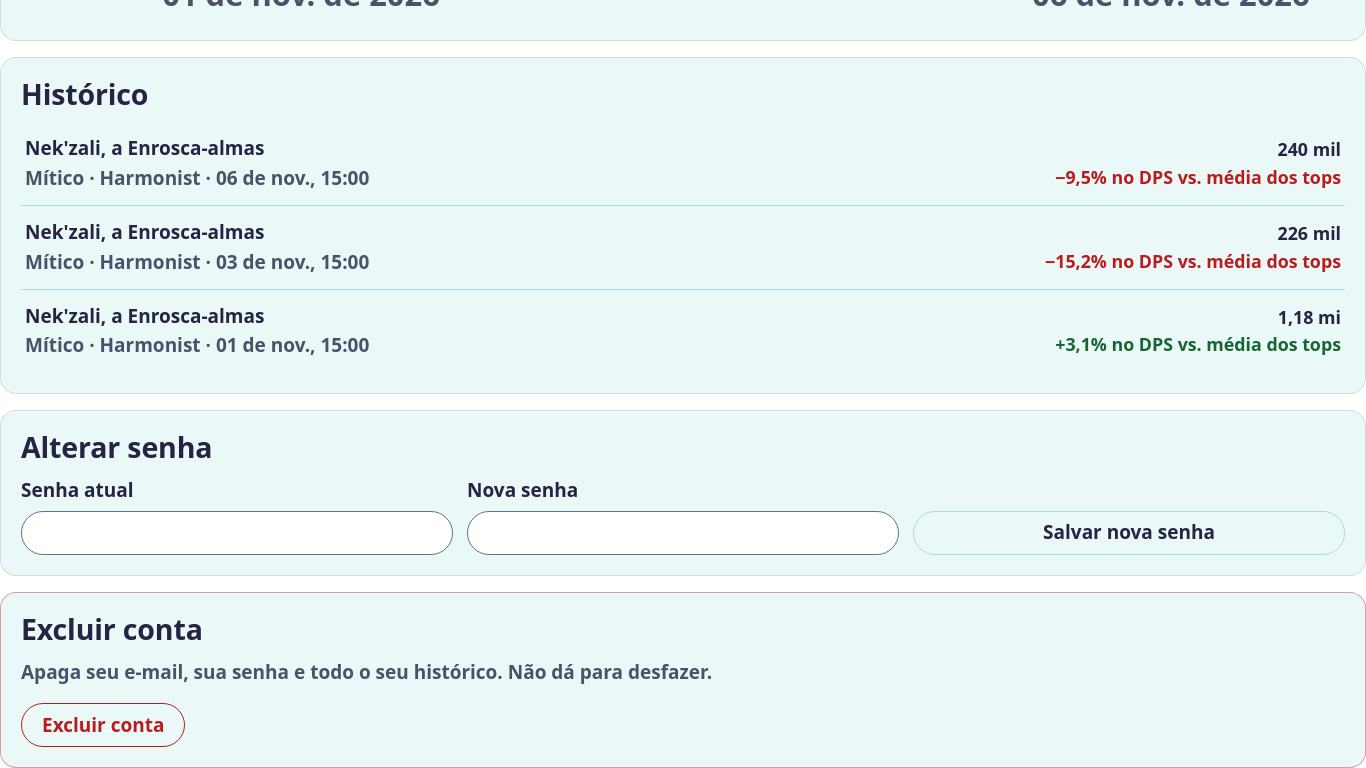
Test: Profile › alterar senha › troca a senha, avisa e limpa os campos
(page scrolled)
Type "senha-antiga" into the password field labelled "Senha atual". click: (237, 533)
box: [21,511,453,555]
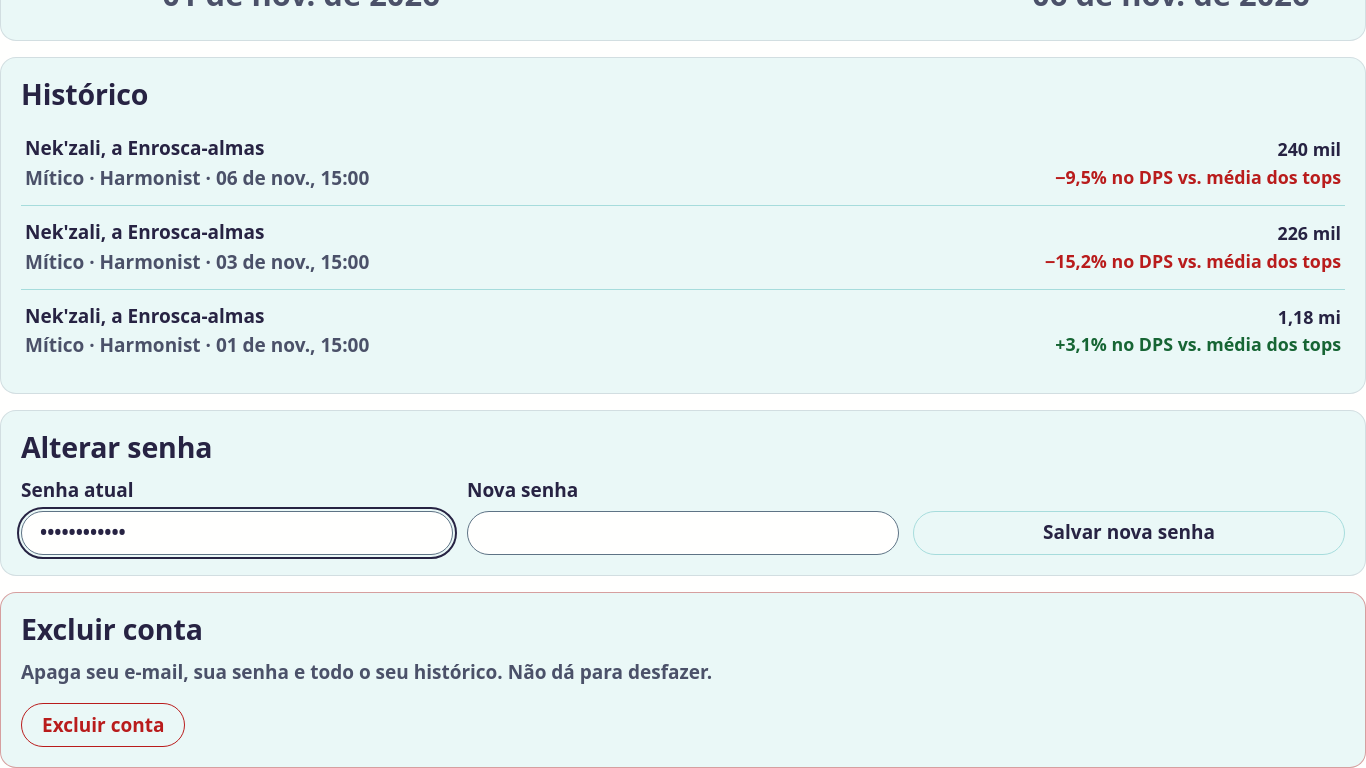
Type "senha-nova-123" into the password field labelled "Nova senha". click: (683, 533)
box: [467,511,899,555]
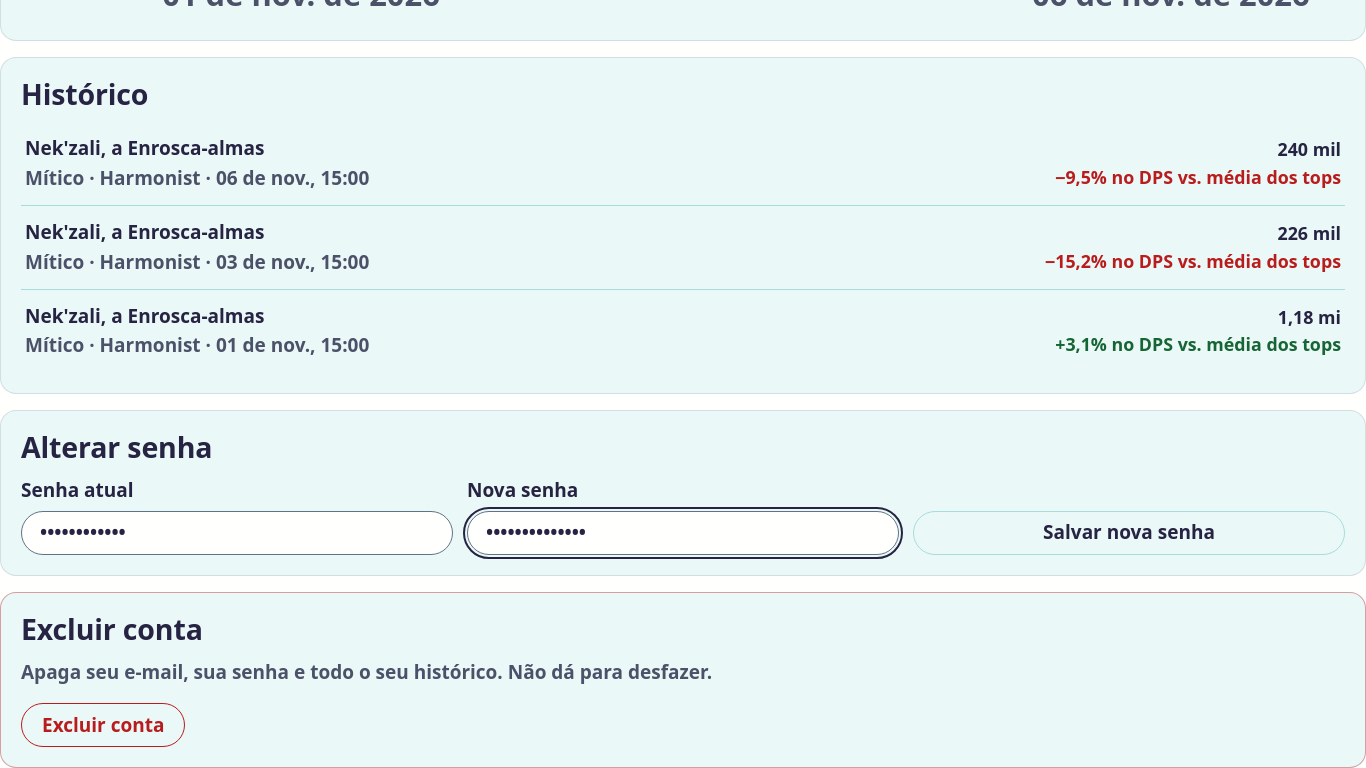
Click the button "Salvar nova senha". click: (1129, 533)
box: [913,511,1345,555]
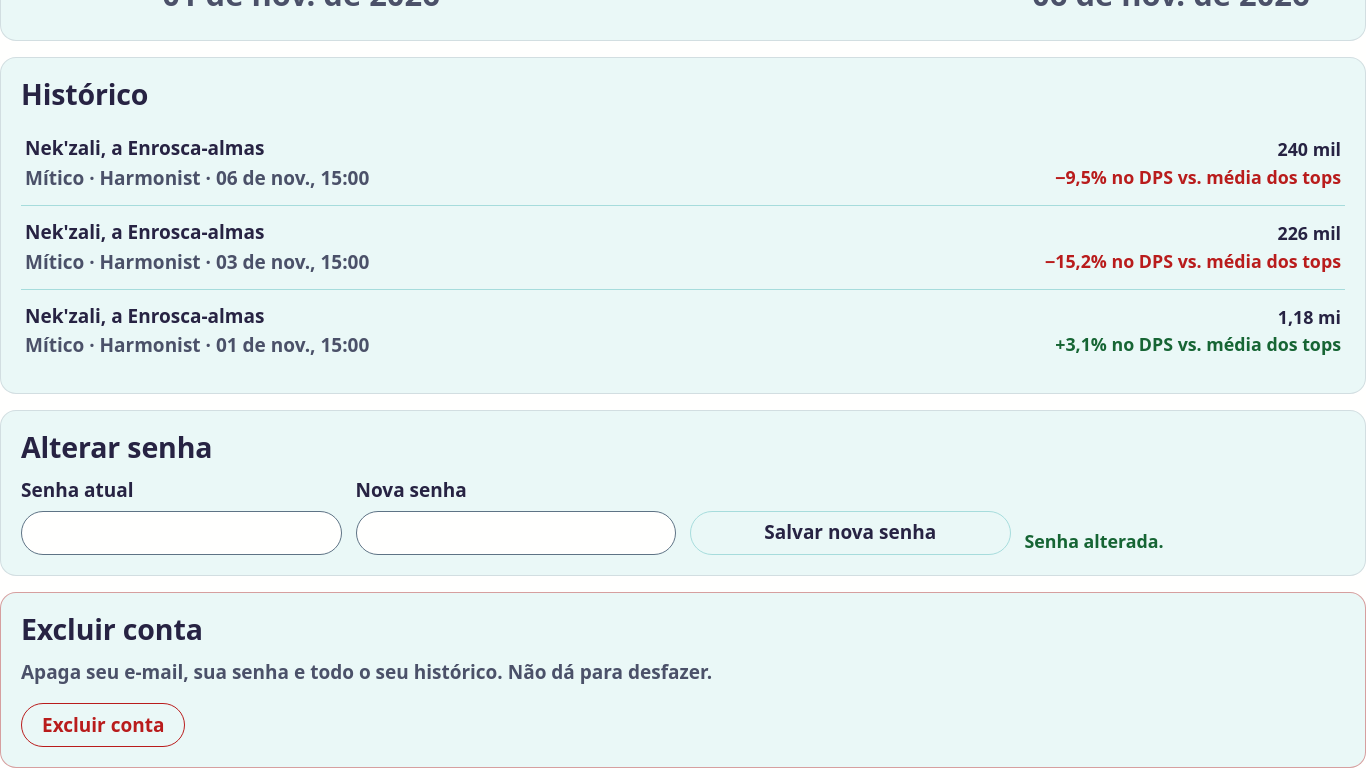
Expected: the text "Senha alterada." is shown, [1024,528,1164,552]
Expected: the password field labelled "Senha atual" is empty, [21,511,342,555]
Expected: the password field labelled "Nova senha" is empty, [356,511,676,555]
